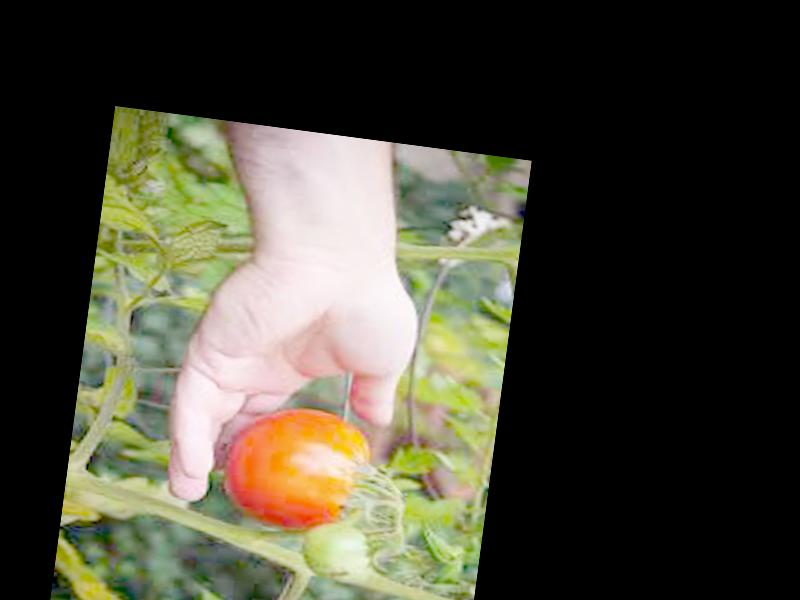Tomato: (218, 399, 379, 542)
